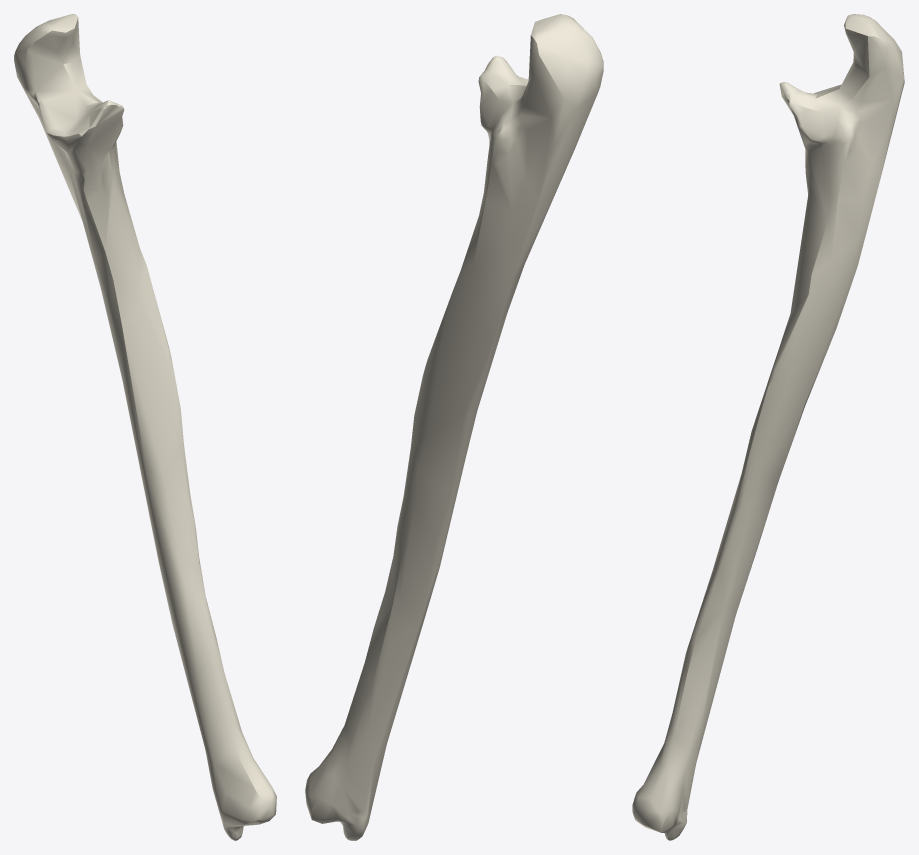
File: fma23468_fj6396.glb
3 views of the same model, side by side, from view 1: azimuth 30°, elevation 25°; view 2: azimuth 210°, elevation 25°; view 3: azimuth 270°, elevation 25° (orthographic). The views are drawn at different scales.
Visible parts, largest first — view 1: FMA23468_FJ6396; view 2: FMA23468_FJ6396; view 3: FMA23468_FJ6396.
Boxes of the visible parts, box(x1,y1,x2,y2) form: FMA23468_FJ6396: box(14, 14, 276, 840); FMA23468_FJ6396: box(305, 14, 603, 840); FMA23468_FJ6396: box(632, 14, 904, 840).
Bounding box in the file's own units: 0.0505 × 0.2473 × 0.0784.
